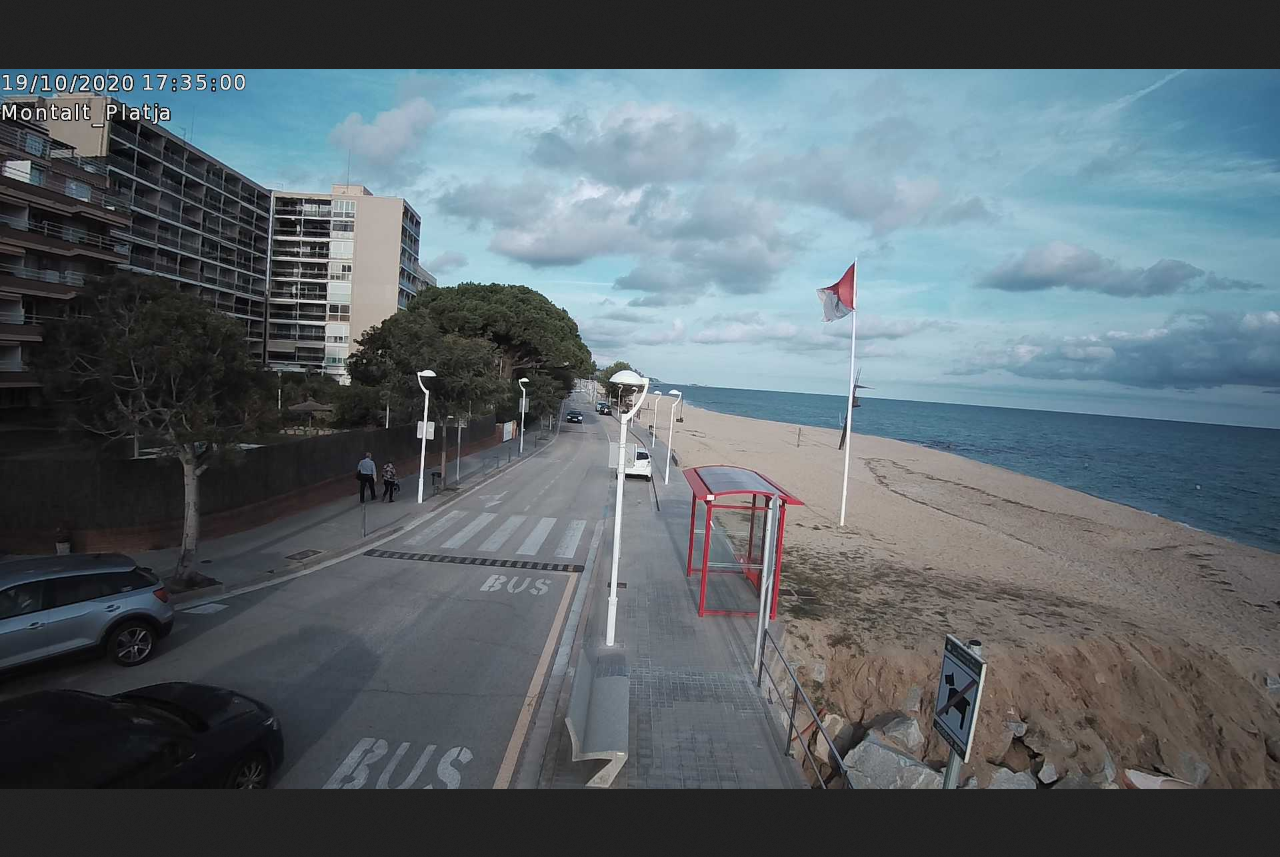yes: (817, 263, 854, 318)
